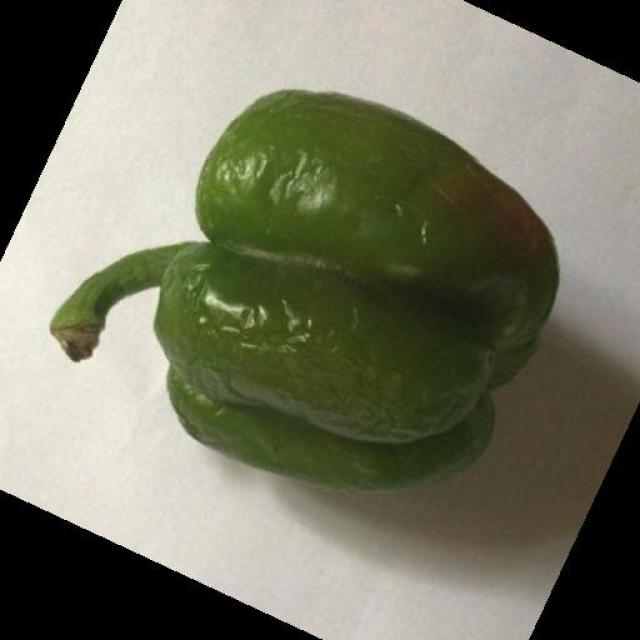Stale_Capsicum: (112, 72, 554, 483)
